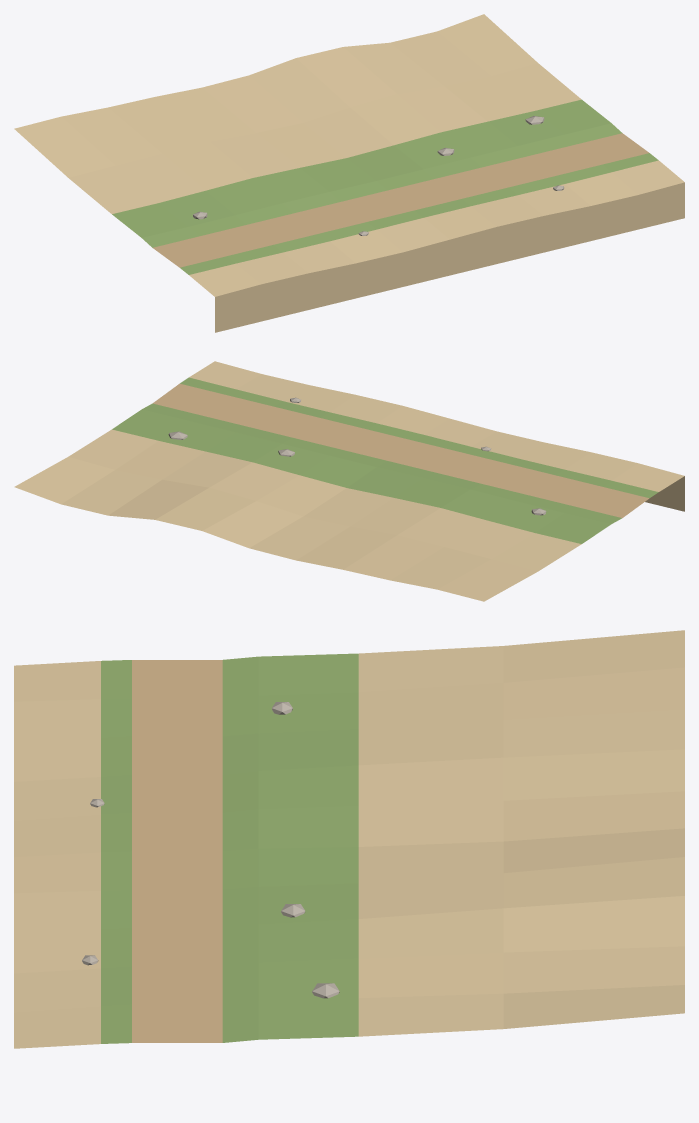
File: ENV_N1_SueloSegmento.fbx
3 views of the same model, one above another, from view 1: azimuth 30°, elevation 25°; view 2: azimuth 150°, elevation 25°; view 3: azimuth 270°, elevation 25° (orthographic). The views are drawn at different scales.
Parts seen in each view (by area): view 1: ENV_N1_SueloSegmento; view 2: ENV_N1_SueloSegmento; view 3: ENV_N1_SueloSegmento.
Part boxes in pixels (x1,y1,x2,y2): ENV_N1_SueloSegmento: [14, 14, 684, 332]; ENV_N1_SueloSegmento: [14, 361, 684, 601]; ENV_N1_SueloSegmento: [14, 630, 684, 1048].
Bounding box in the file's own units: 50 × 6 × 37.
